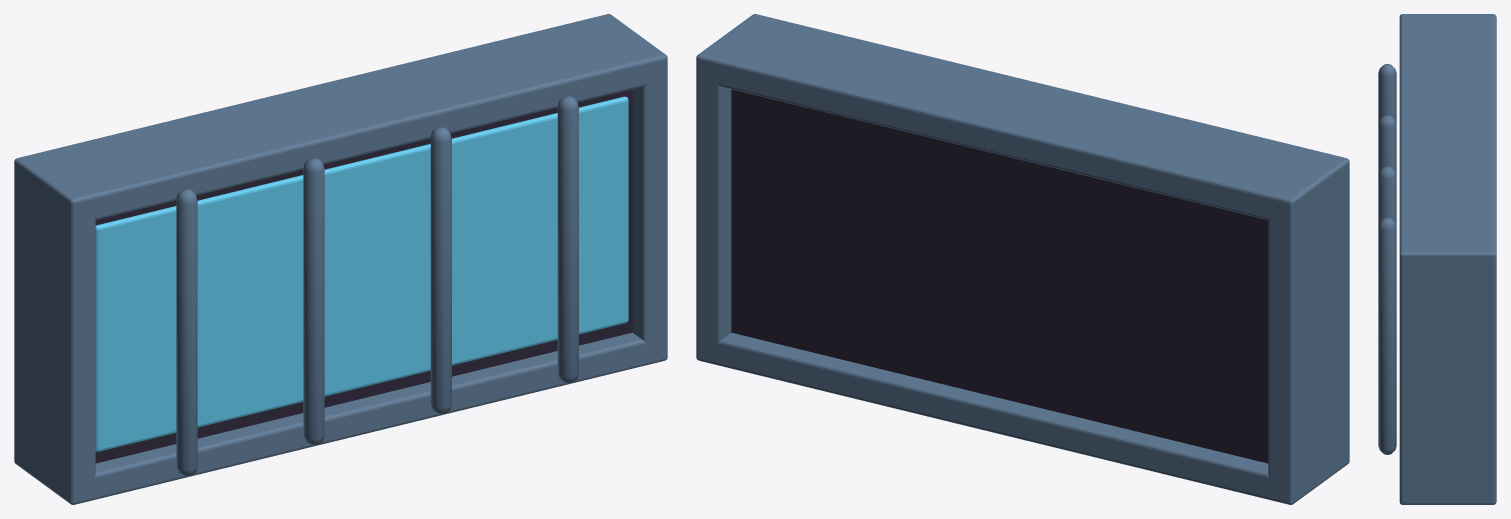
Rendered from window.glb.
The picture shows the model from 3 angles, left to right: view 1: azimuth 30°, elevation 25°; view 2: azimuth 150°, elevation 25°; view 3: azimuth 270°, elevation 25°; orthographic projection. The views are drawn at different scales.
Visible parts, largest first — view 1: Blue_pane, Frame.001, Side_frame, Frame, Side_frame.001, Dark_recess, Bar, Bar.001, Bar.002, Bar.003; view 2: Dark_recess, Frame.001, Frame, Side_frame, Side_frame.001; view 3: Frame.001, Side_frame.001, Bar.003, Frame, Bar.001, Bar.002, Bar.
Boxes of the visible parts, bbox=[...] form: Blue_pane: bbox=[95, 96, 628, 451]; Frame.001: bbox=[14, 14, 667, 223]; Side_frame: bbox=[14, 169, 95, 495]; Frame: bbox=[14, 332, 667, 504]; Side_frame.001: bbox=[632, 65, 667, 355]; Dark_recess: bbox=[95, 89, 632, 463]; Bar: bbox=[176, 189, 197, 476]; Bar.001: bbox=[303, 158, 324, 445]; Bar.002: bbox=[430, 127, 451, 414]; Bar.003: bbox=[557, 96, 578, 383]; Dark_recess: bbox=[731, 89, 1268, 463]; Frame.001: bbox=[696, 14, 1349, 223]; Frame: bbox=[696, 332, 1349, 504]; Side_frame: bbox=[1268, 174, 1349, 495]; Side_frame.001: bbox=[696, 65, 731, 356]; Frame.001: bbox=[1399, 14, 1496, 272]; Side_frame.001: bbox=[1399, 261, 1496, 497]; Bar.003: bbox=[1378, 217, 1396, 454]; Frame: bbox=[1399, 486, 1496, 504]; Bar.001: bbox=[1378, 115, 1396, 174]; Bar.002: bbox=[1378, 166, 1396, 225]; Bar: bbox=[1378, 64, 1396, 123].
Bounding box in the file's own units: 0.94 × 0.46 × 0.195.
